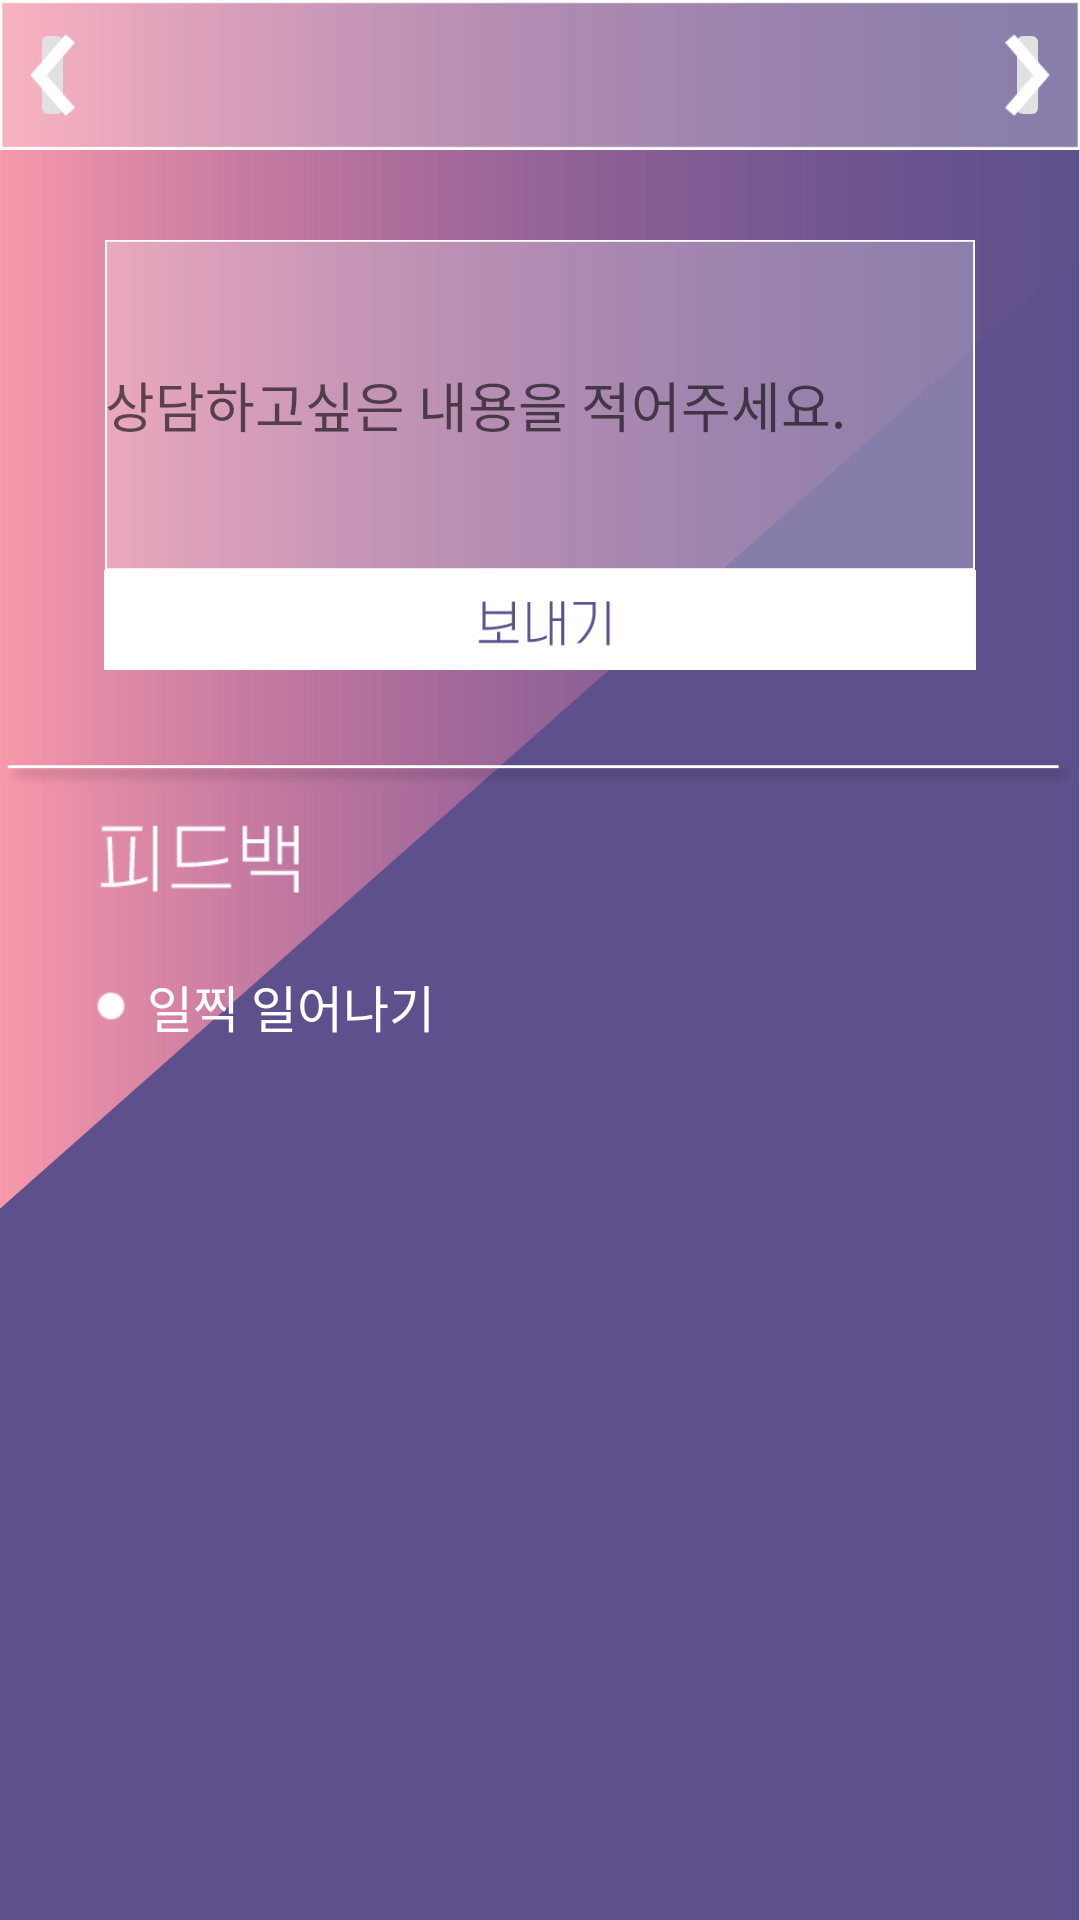

Where to tap for icons on this 1080 x 1920 app screen, as point (x, y):
mood arrow left: point (53, 75)
mood arrow right: point (1027, 75)
mood dot: point (111, 1006)
